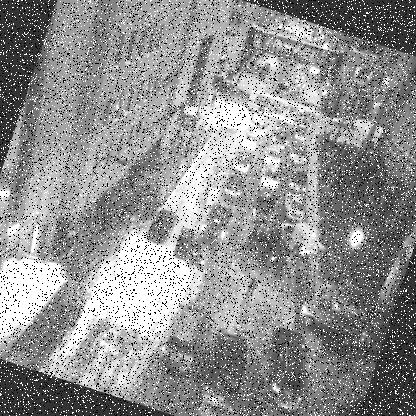Car: (172, 102, 330, 292), (254, 13, 323, 102), (251, 326, 321, 413), (296, 288, 374, 350), (195, 331, 254, 412), (154, 296, 212, 376), (146, 208, 178, 249), (214, 80, 236, 97), (134, 398, 158, 410), (215, 74, 224, 86)
